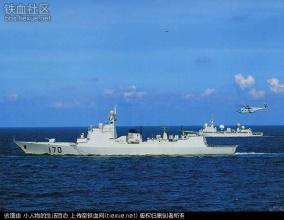airplane: (225, 100, 271, 117)
warship: (14, 112, 238, 160), (181, 117, 275, 137)
